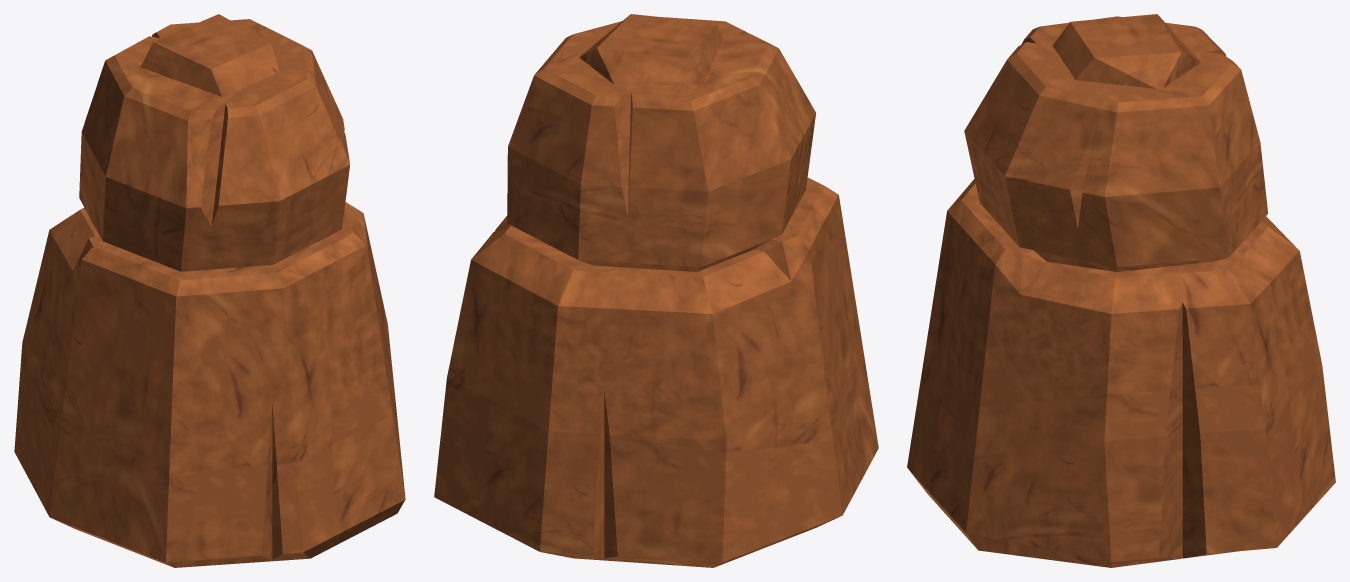
File: rock3.fbx
3 views of the same model, side by side, from view 1: azimuth 30°, elevation 25°; view 2: azimuth 150°, elevation 25°; view 3: azimuth 270°, elevation 25° (orthographic). The views are drawn at different scales.
Parts seen in each view (by area): view 1: 3; view 2: 3; view 3: 3.
Boxes of the visible parts, left/top/right/bottom form: 3: left=14, top=14, right=405, bottom=567; 3: left=434, top=14, right=878, bottom=567; 3: left=907, top=14, right=1335, bottom=567.
Bounding box in the file's own units: 45.53 × 56.53 × 47.96.
1 material, 1 textured.
